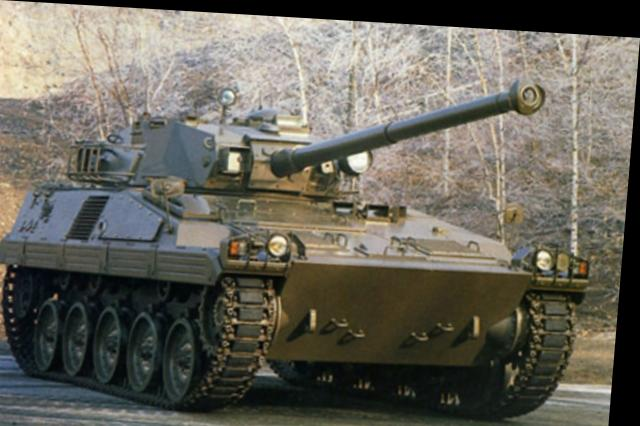tank: (0, 111, 602, 417)
